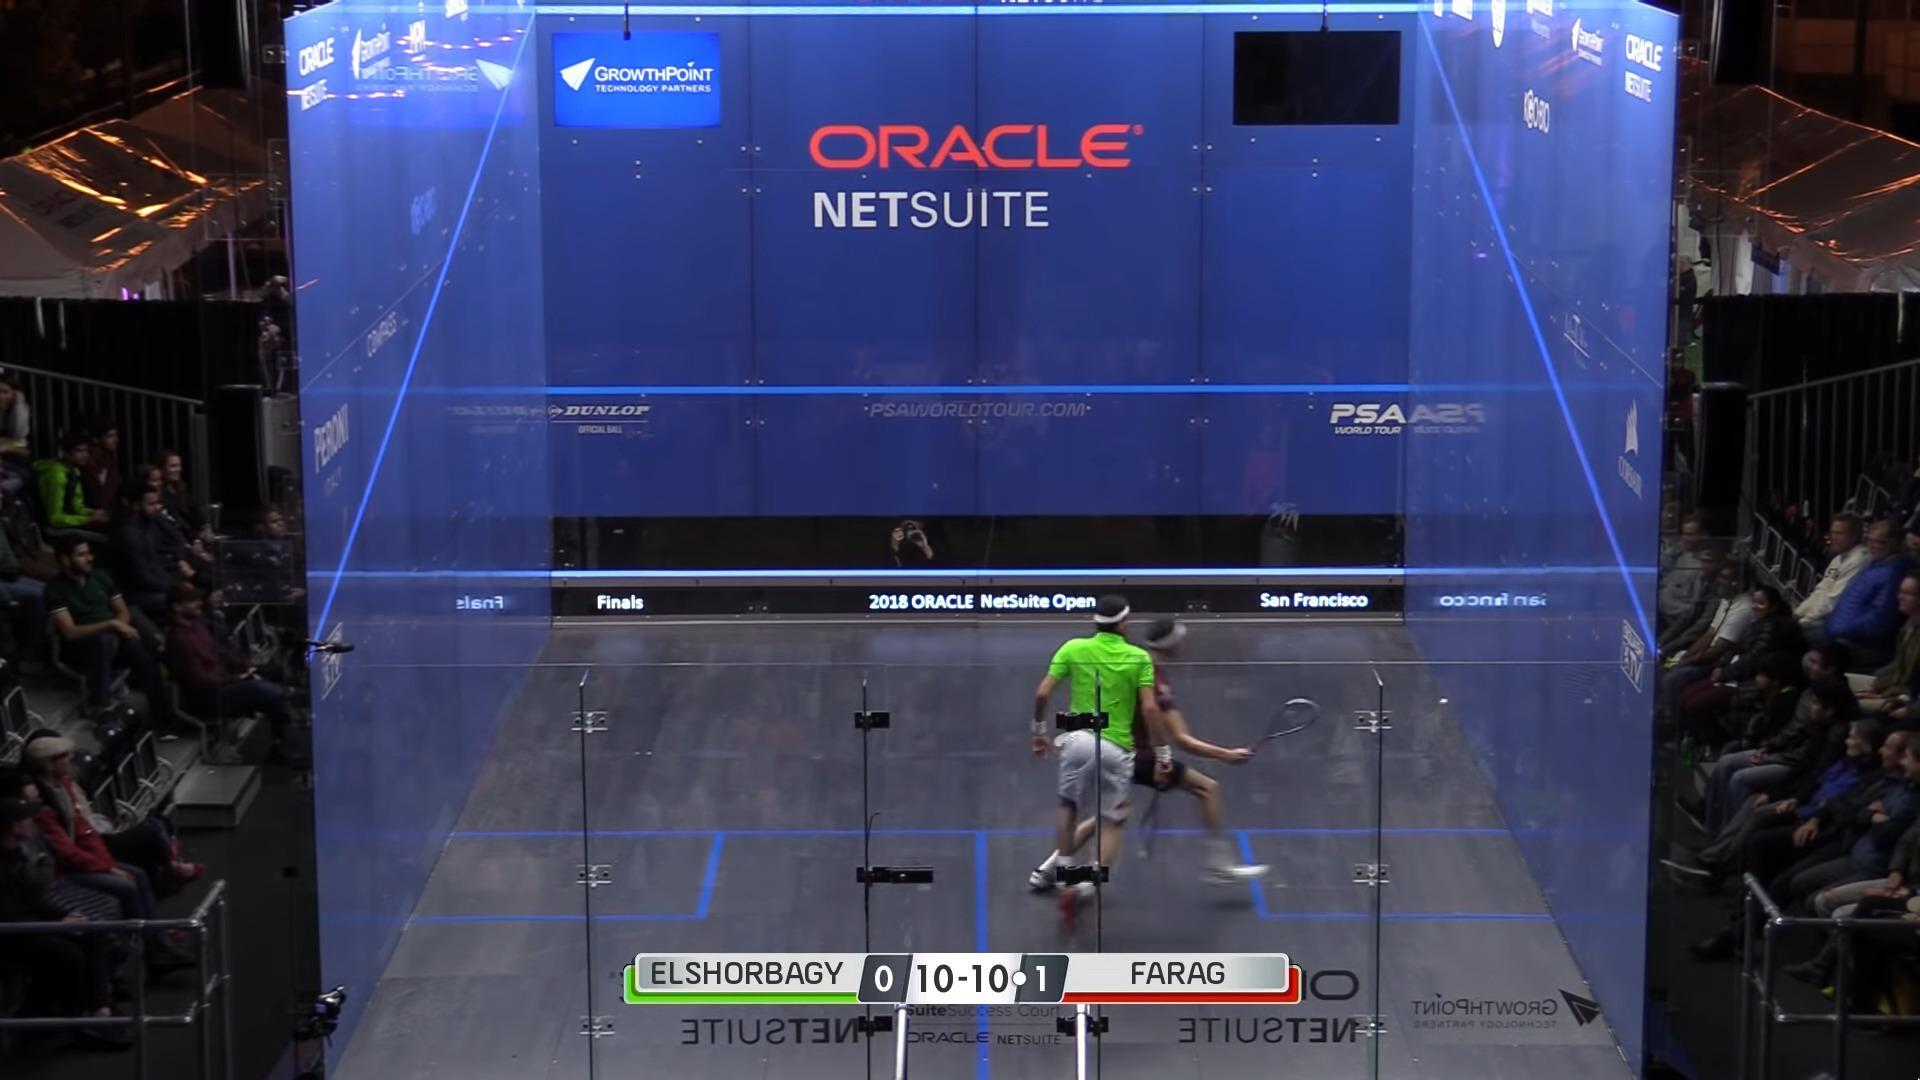Squash-Ball: (1419, 684, 1458, 715)
